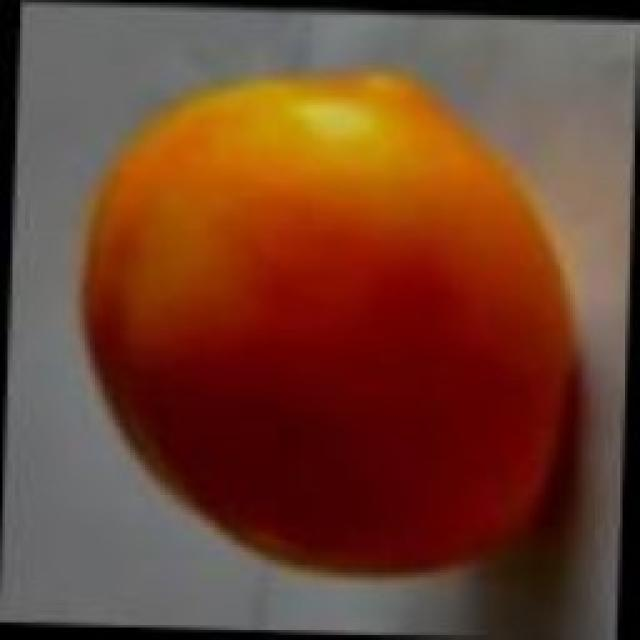unripe: (213, 169, 376, 460)
